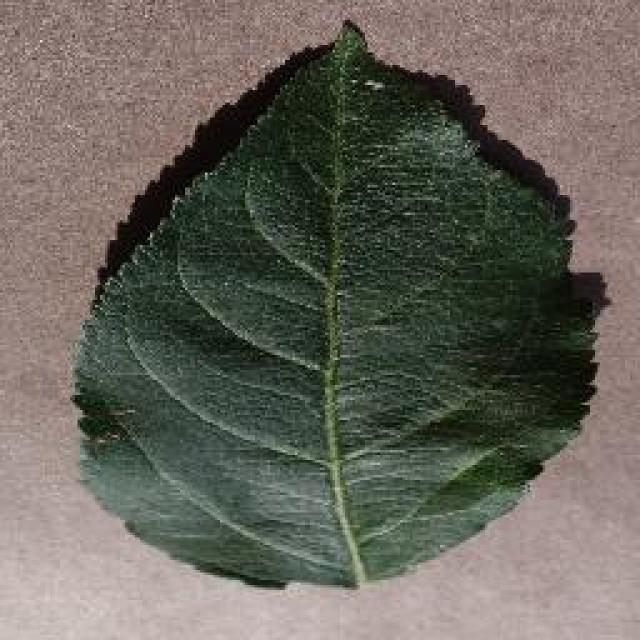apple healthy: (67, 18, 605, 590)
